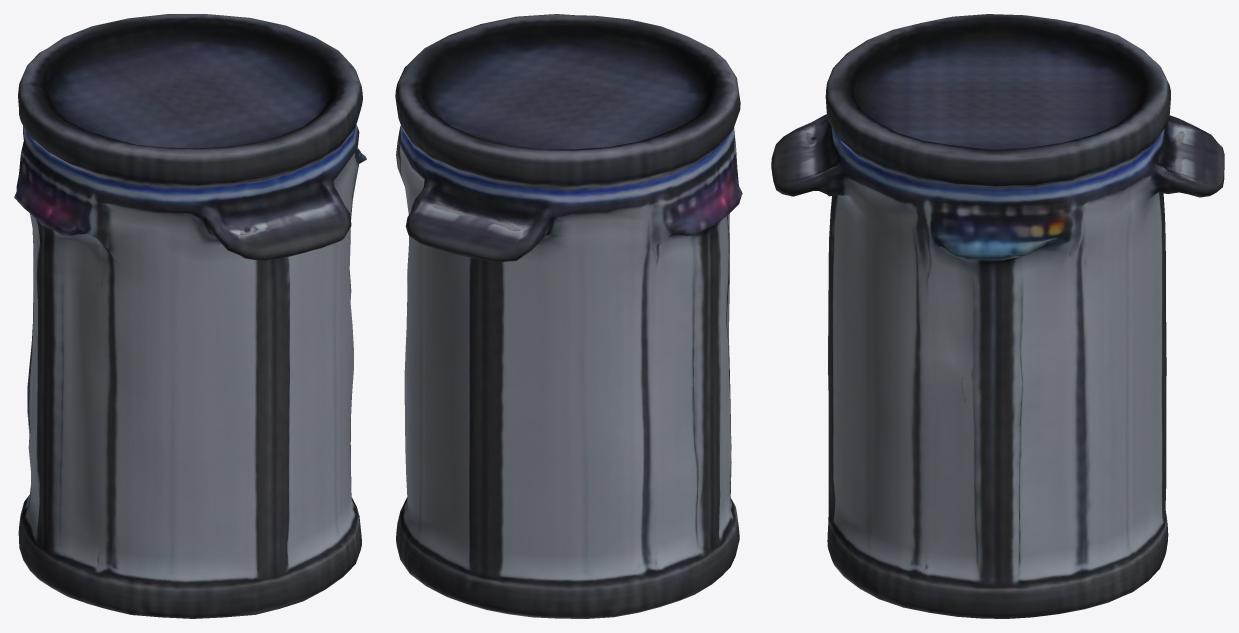
Rendered from bff84b1443d1_trash_can_for_shopp.obj.
The picture shows the model from 3 angles, left to right: view 1: azimuth 30°, elevation 25°; view 2: azimuth 150°, elevation 25°; view 3: azimuth 270°, elevation 25°; orthographic projection.
Parts seen in each view (by area): view 1: mesh; view 2: mesh; view 3: mesh.
Boxes of the visible parts, x1,y1,x2,y2 form: mesh: (14,14,366,618); mesh: (395,14,742,618); mesh: (771,14,1224,618).
Size of the model in its own units: 0.6862 by 0.9983 by 0.877.
